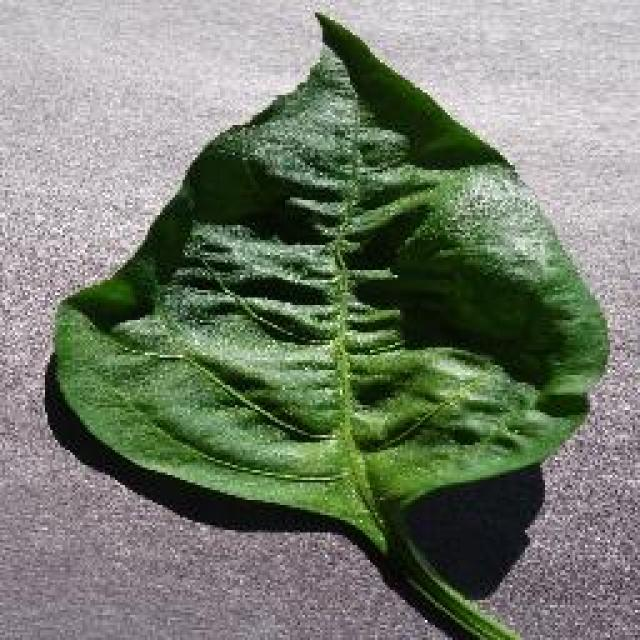Chilli_Healthy: (45, 8, 613, 638)
